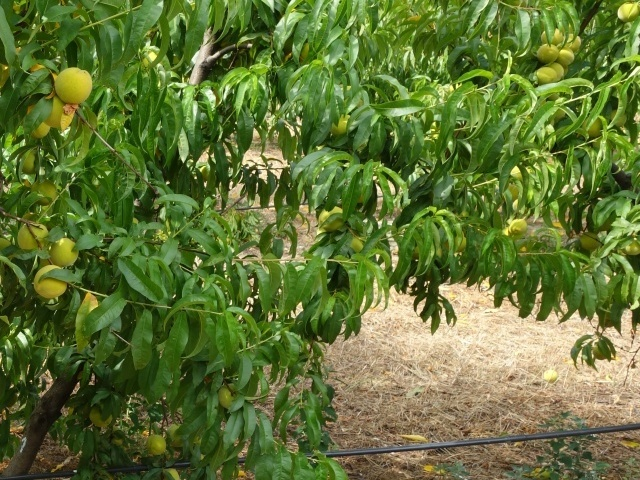peach: (52, 65, 95, 110), (31, 261, 74, 300), (39, 86, 76, 128), (13, 215, 51, 253), (49, 234, 82, 271), (315, 201, 348, 235), (26, 178, 60, 206), (217, 380, 243, 411), (504, 214, 533, 241), (575, 227, 604, 253), (539, 23, 565, 50), (531, 40, 559, 65), (87, 403, 115, 428), (18, 151, 42, 180), (534, 63, 559, 90), (582, 114, 608, 139), (142, 432, 167, 457), (166, 421, 190, 446), (616, 1, 640, 26), (559, 29, 585, 51), (554, 43, 576, 68), (610, 108, 630, 130)
